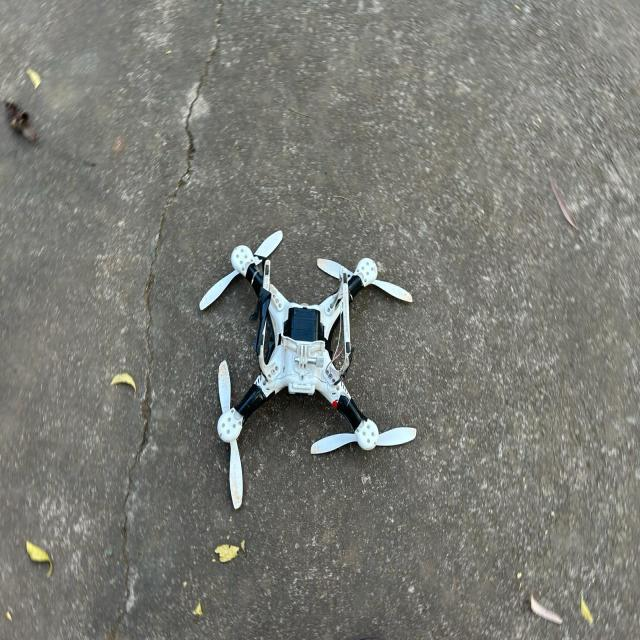drone: (98, 176, 506, 561)
